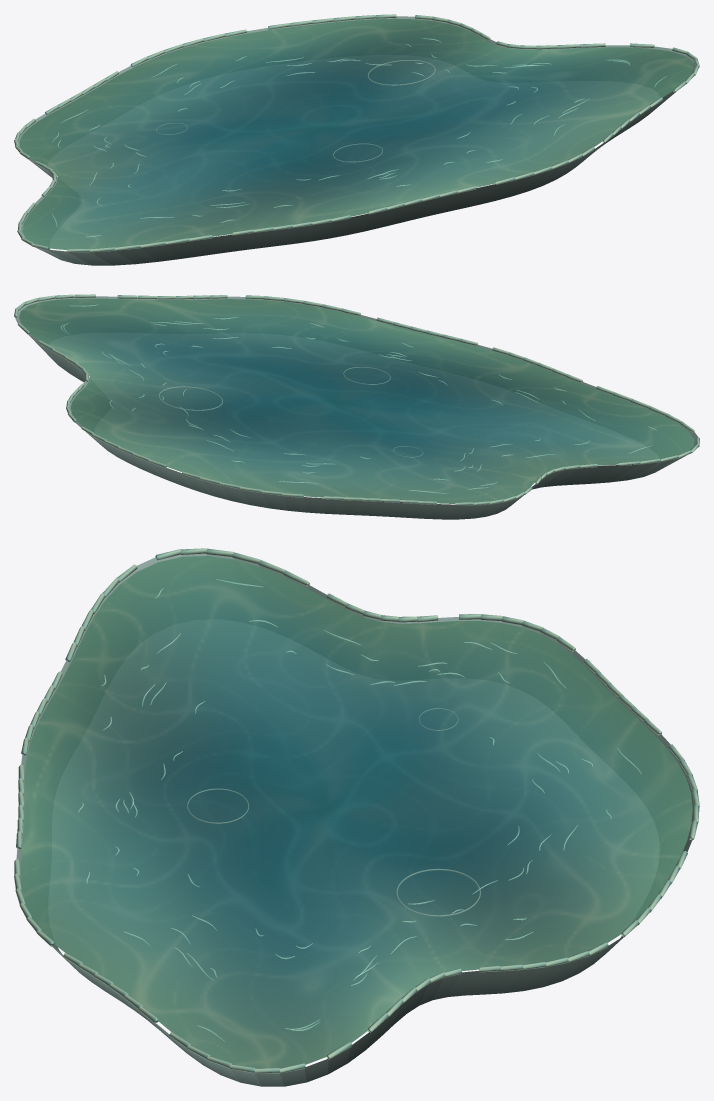
The picture shows the model from 3 angles, top to bottom: view 1: azimuth 30°, elevation 25°; view 2: azimuth 150°, elevation 25°; view 3: azimuth 270°, elevation 25°; orthographic projection. The views are drawn at different scales.
Parts seen in each view (by area): view 1: Jade_water, Sunk_shingle_and_shallows, Wet_margin, Shallow_caustics; view 2: Jade_water, Sunk_shingle_and_shallows, Wet_margin, Shallow_caustics; view 3: Jade_water, Sunk_shingle_and_shallows, Wet_margin, Shallow_caustics.
Boxes of the visible parts, x1,y1,x2,y2 form: Jade_water: [19, 18, 693, 249]; Sunk_shingle_and_shallows: [18, 16, 695, 265]; Wet_margin: [14, 14, 699, 252]; Shallow_caustics: [52, 38, 666, 237]; Jade_water: [19, 298, 694, 503]; Sunk_shingle_and_shallows: [15, 296, 697, 519]; Wet_margin: [14, 294, 699, 505]; Shallow_caustics: [60, 304, 657, 493]; Jade_water: [20, 556, 692, 1068]; Sunk_shingle_and_shallows: [16, 553, 694, 1086]; Wet_margin: [14, 548, 699, 1073]; Shallow_caustics: [78, 579, 641, 1041].
Bounding box in the file's own units: 14.43 × 0.5783 × 8.01.
Materials: 7 (1 with a texture image).
